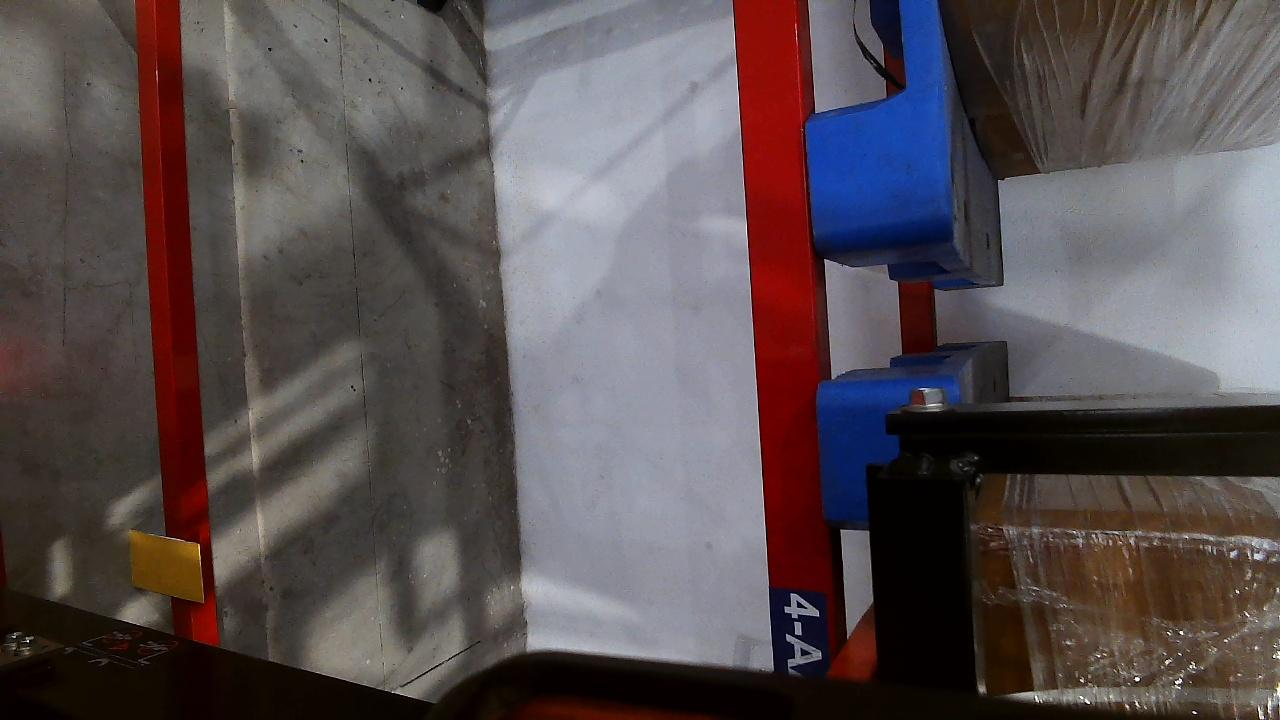h_rack: (730, 3, 831, 687)
orange_strip: (129, 531, 204, 621)
small_pallet: (797, 0, 956, 240)
